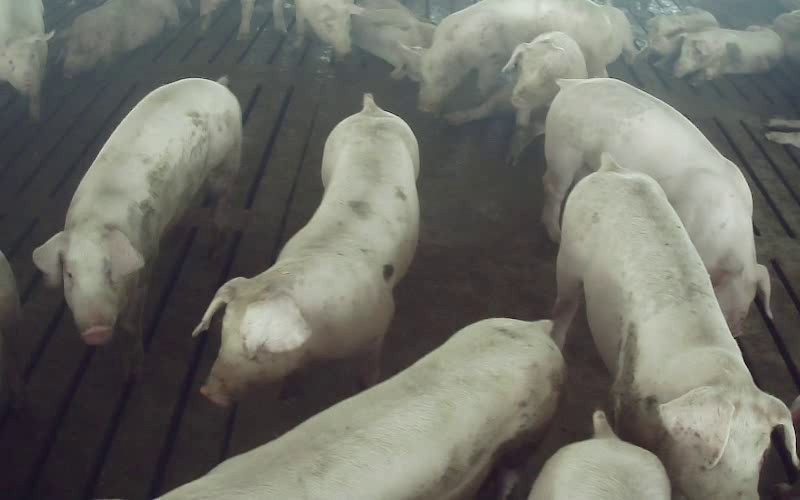pig: (554, 156, 799, 499), (159, 318, 563, 499), (194, 94, 418, 404), (33, 77, 241, 374), (543, 78, 770, 332), (419, 0, 634, 112), (447, 32, 586, 164), (351, 0, 434, 80), (674, 26, 783, 80), (638, 8, 718, 64)
